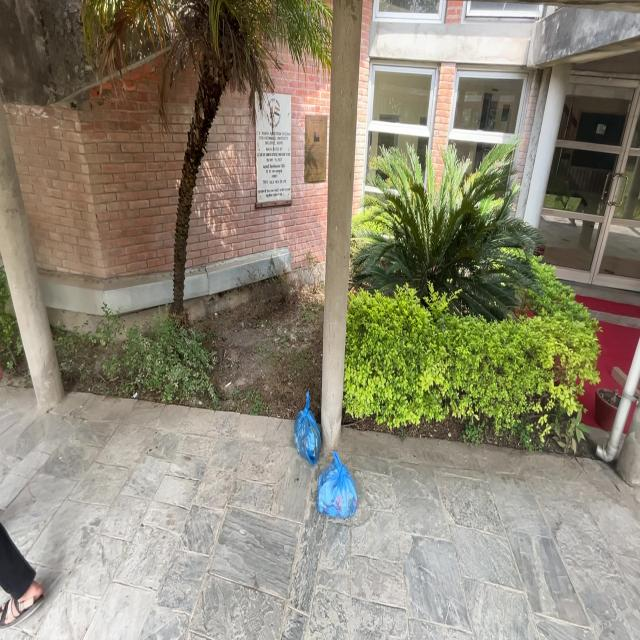garbage: (313, 459, 365, 535), (289, 392, 329, 474)
